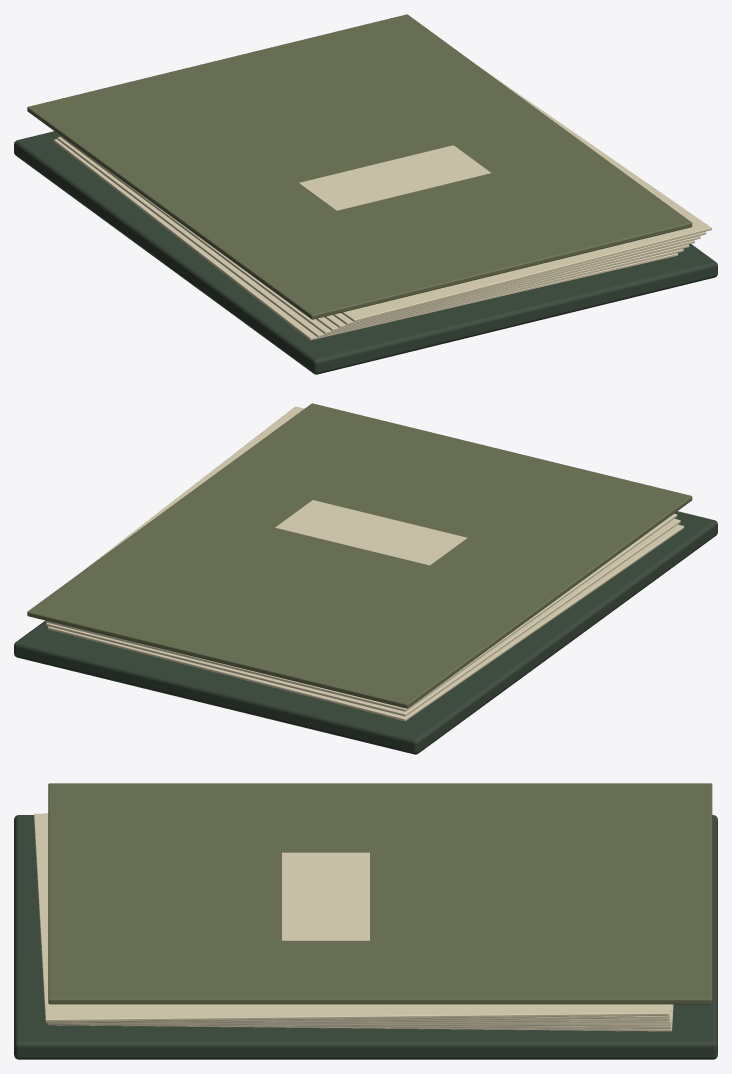
File: dossier.glb
3 renders of one model, top to bottom at view 1: azimuth 30°, elevation 25°; view 2: azimuth 150°, elevation 25°; view 3: azimuth 270°, elevation 25°, orthographic. The views are drawn at different scales.
Visible parts, largest first — view 1: dossier, folder_label; view 2: dossier, folder_label; view 3: dossier, folder_label.
Boxes of the visible parts, left/top/right/bottom form: dossier: left=14, top=14, right=717, bottom=374; folder_label: left=299, top=145, right=490, bottom=210; dossier: left=14, top=403, right=717, bottom=754; folder_label: left=275, top=500, right=467, bottom=565; dossier: left=14, top=783, right=717, bottom=1059; folder_label: left=282, top=852, right=369, bottom=941.
Bounding box in the file's own units: 0.6902 × 0.078 × 0.88.
